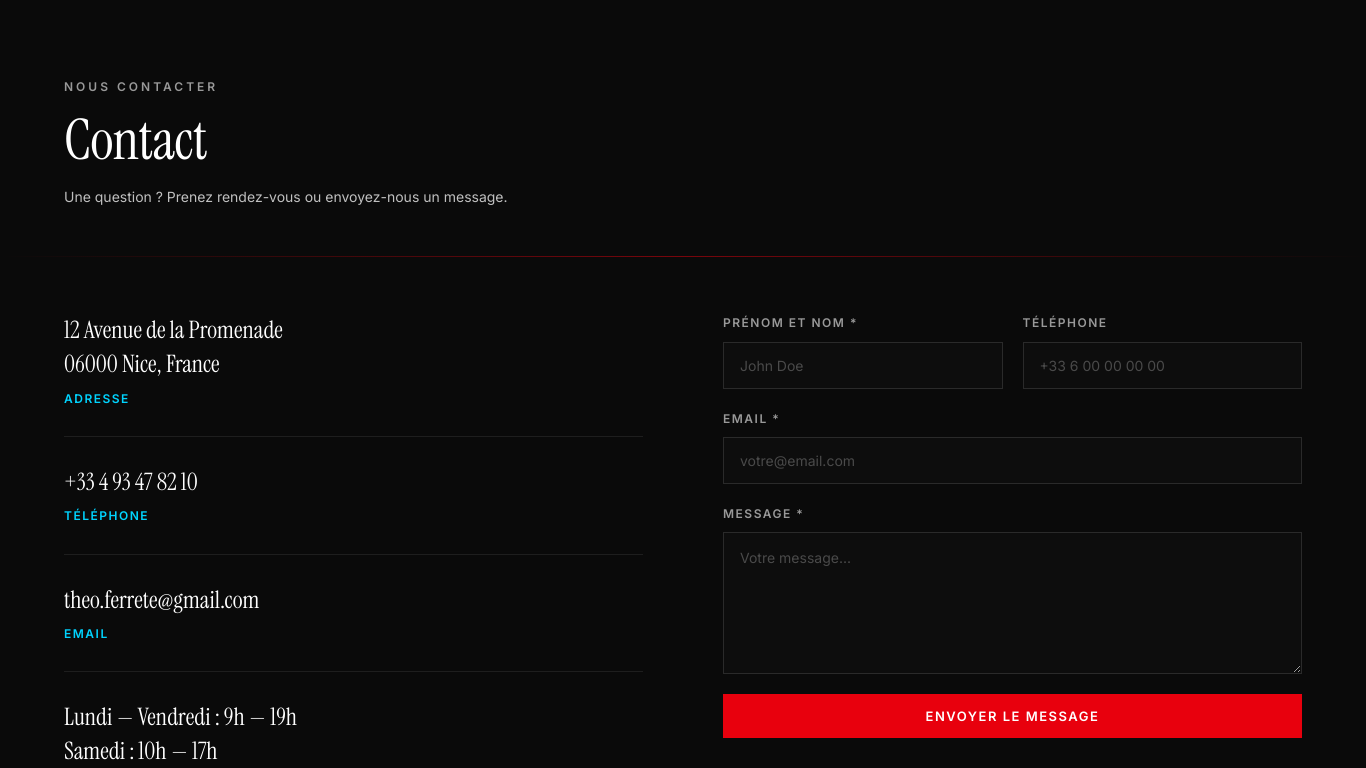
Test: Contact — formulaire › affiche le message de succès après envoi
The image size is (1366, 768).
Type "Alice" into the field with placeholder "John Doe" at (863, 365), box [723,342,1002,389]
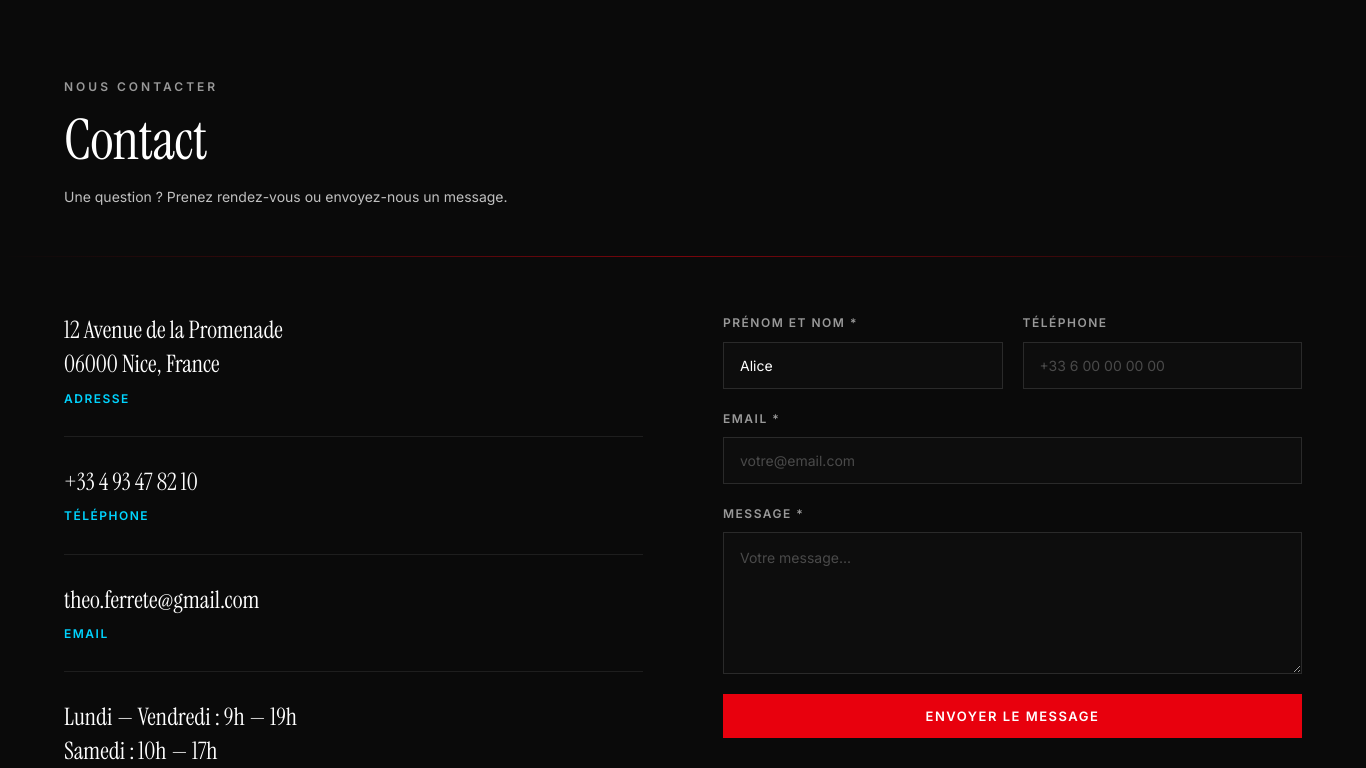
Type "alice@test.com" into the field with placeholder "votre@email.com" at (1012, 460), box [723,437,1302,484]
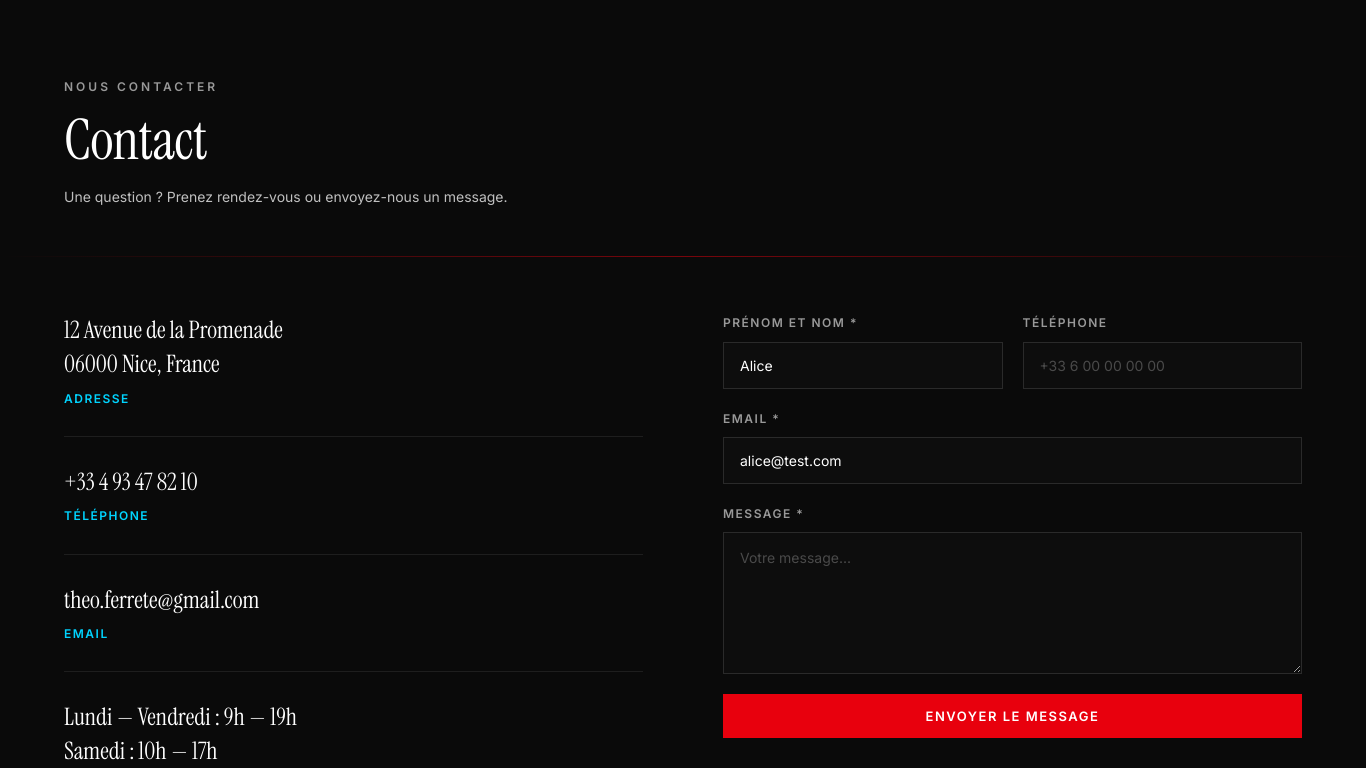
Type "Bonjour" into the text box with placeholder "Votre message..." at (1012, 603), box [723,532,1302,674]
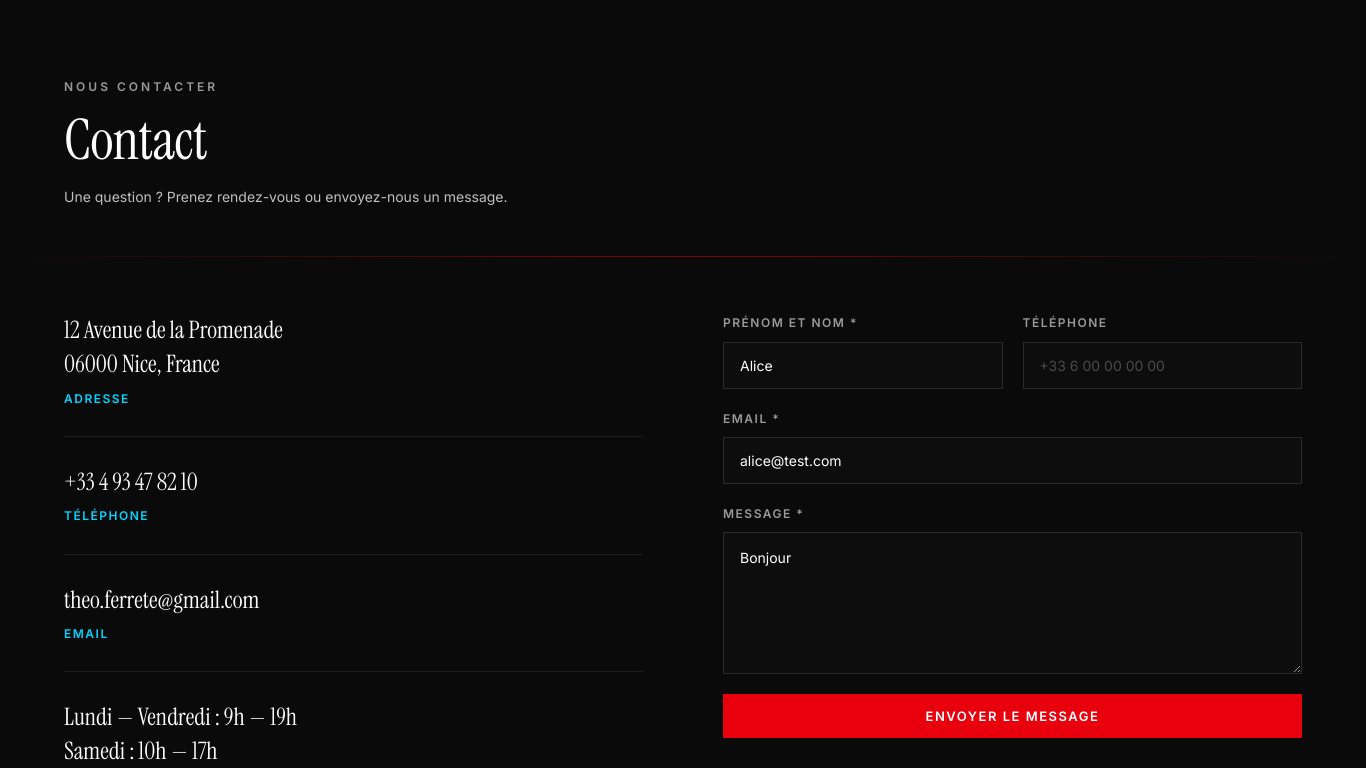
Submit the form "Envoyer le message", box [723,313,1302,738]
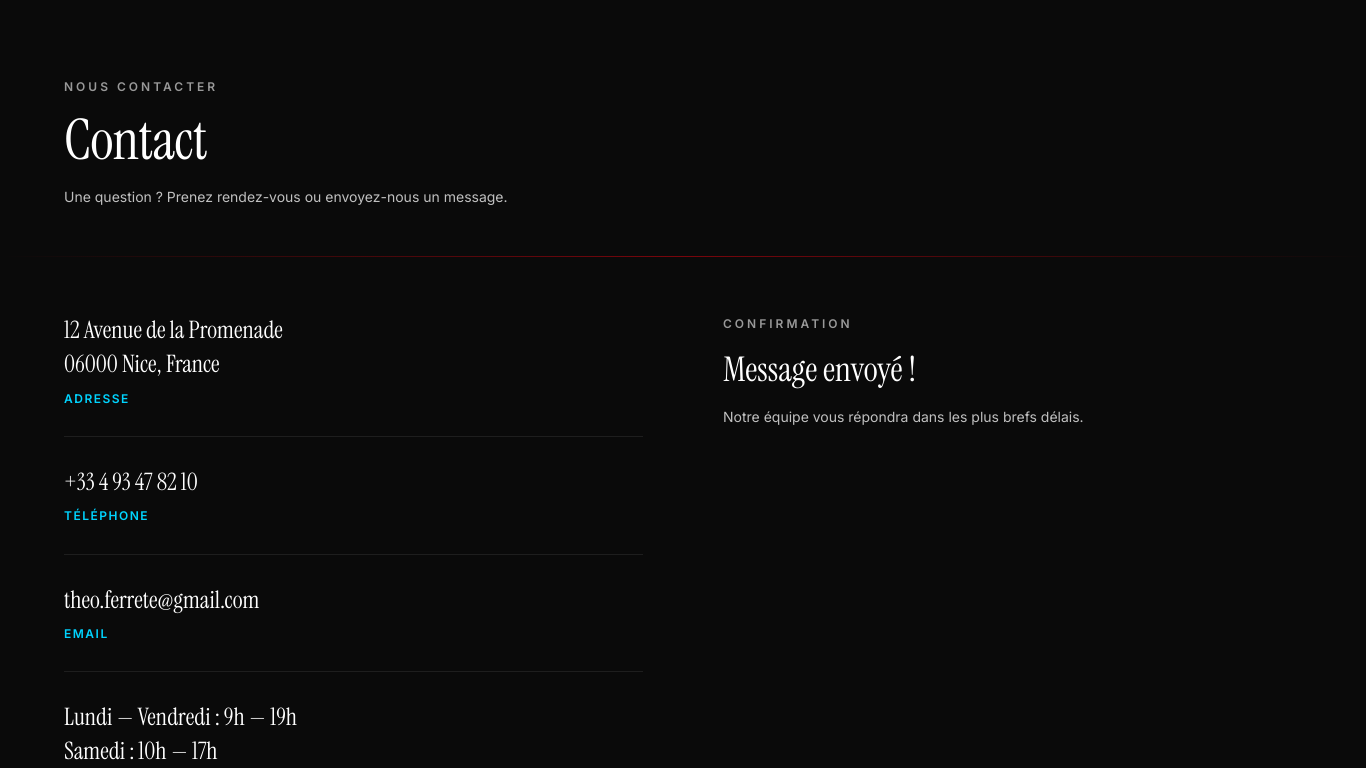
Expected: the heading "Message envoyé !" is shown, [723,351,916,388]
